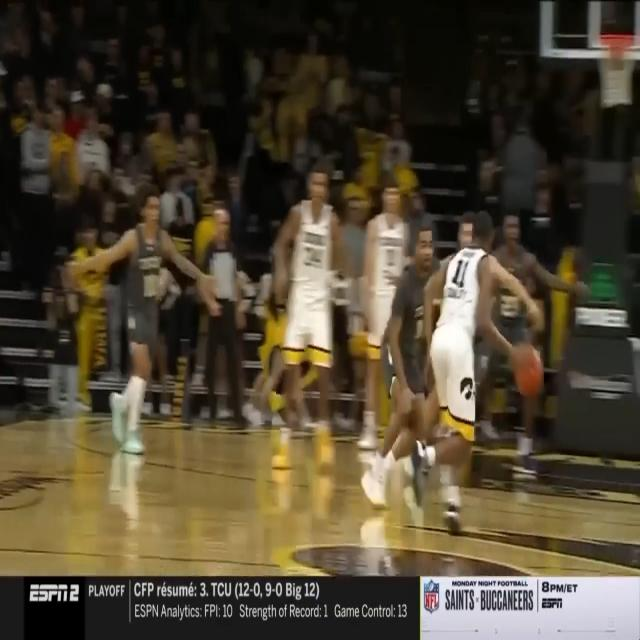Ball: (516, 347, 543, 396)
Hoop: (598, 32, 640, 106)
Player: (66, 184, 216, 456), (410, 216, 529, 535), (432, 214, 544, 502), (474, 213, 591, 478), (270, 165, 360, 473), (359, 214, 449, 507), (357, 178, 408, 450)
Ref: (198, 206, 254, 437)
